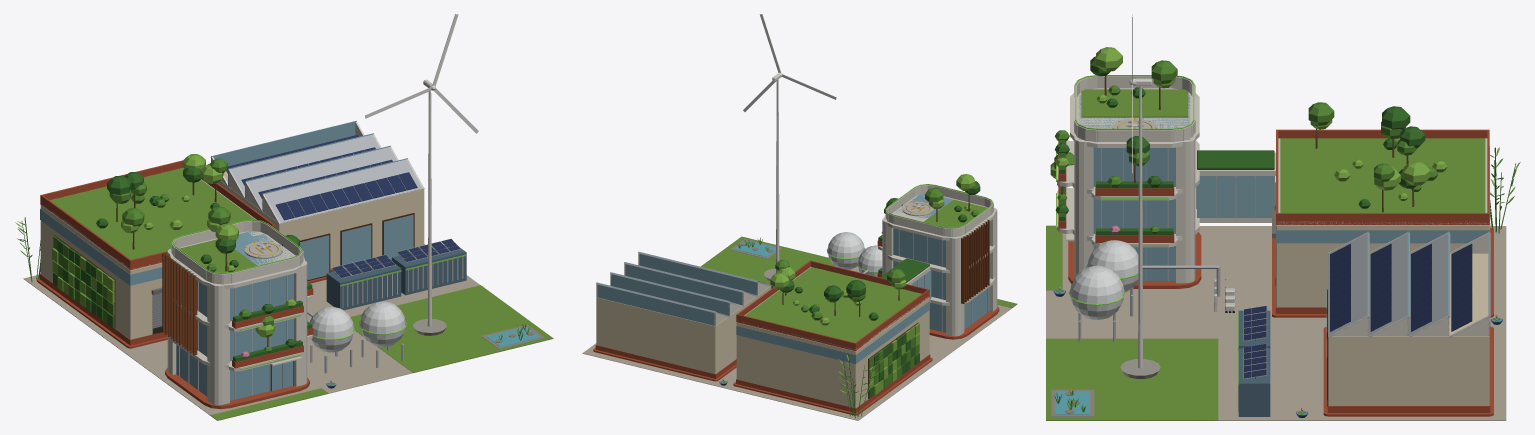
File: factory_4.glb
3 renders of one model, left to right at view 1: azimuth 30°, elevation 25°; view 2: azimuth 150°, elevation 25°; view 3: azimuth 270°, elevation 25°, orthographic. The views are drawn at different scales.
Visible parts, largest first — view 1: body, windows; view 2: body, windows; view 3: body, windows.
Part boxes in pixels (x1=…): body: x1=15, y1=14, x2=553, y2=420; windows: x1=152, y1=219, x2=466, y2=370; body: x1=582, y1=14, x2=1017, y2=420; windows: x1=827, y1=184, x2=992, y2=272; body: x1=1046, y1=14, x2=1520, y2=420; windows: x1=1056, y1=75, x2=1275, y2=387.
Size of the model in its own units: 33.31 by 28.42 by 32.91.
